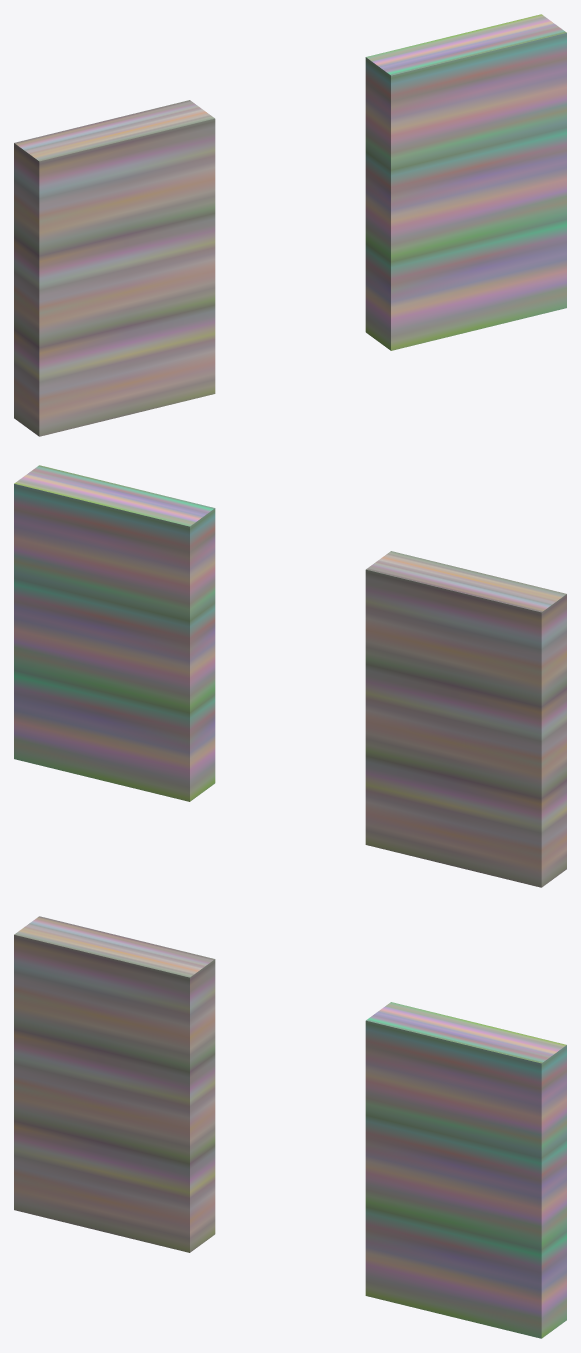
The model's file is construct_eyes_unimpressed.obj.
The picture shows the model from 3 angles, top to bottom: view 1: azimuth 30°, elevation 25°; view 2: azimuth 150°, elevation 25°; view 3: azimuth 330°, elevation 25°; orthographic projection.
Visible parts, largest first — view 1: EYES_UNIMPRESSED_Cube.035; view 2: EYES_UNIMPRESSED_Cube.035; view 3: EYES_UNIMPRESSED_Cube.035.
Boxes of the visible parts, <box> form: EYES_UNIMPRESSED_Cube.035: <box>14,14,566,436</box>; EYES_UNIMPRESSED_Cube.035: <box>14,465,566,887</box>; EYES_UNIMPRESSED_Cube.035: <box>14,916,566,1338</box>.
Bounding box in the file's own units: 0.1875 × 0.0935 × 0.0156.
